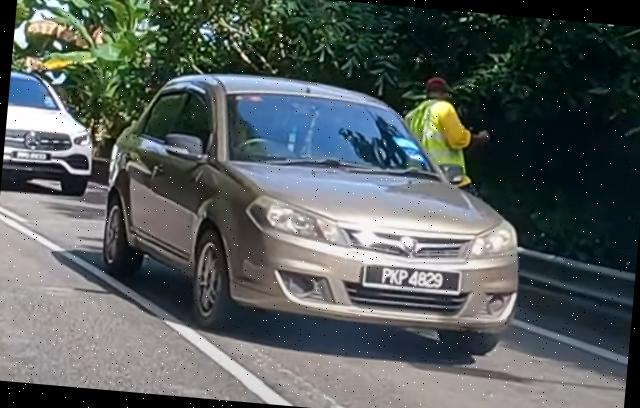License_Plate: (365, 265, 461, 296)
car: (95, 63, 537, 361), (1, 69, 101, 199)
